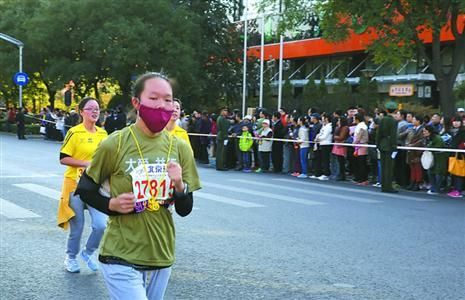face: (82, 101, 99, 122)
face_mask: (138, 81, 173, 131)
